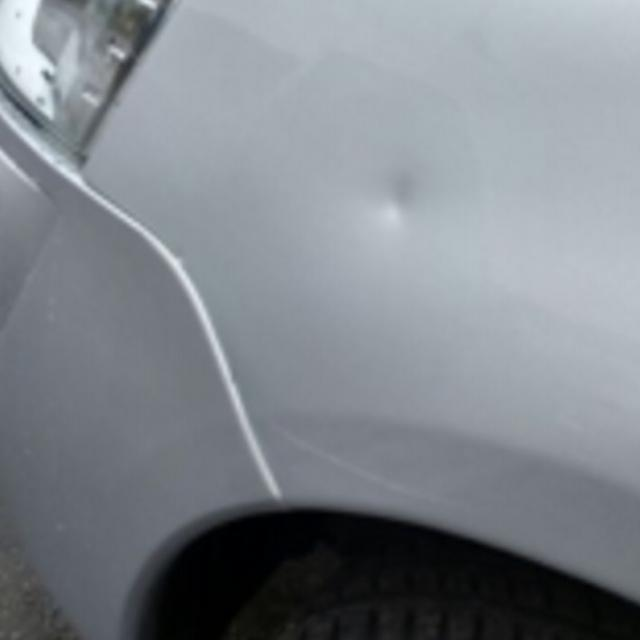dents: (356, 153, 463, 261)
